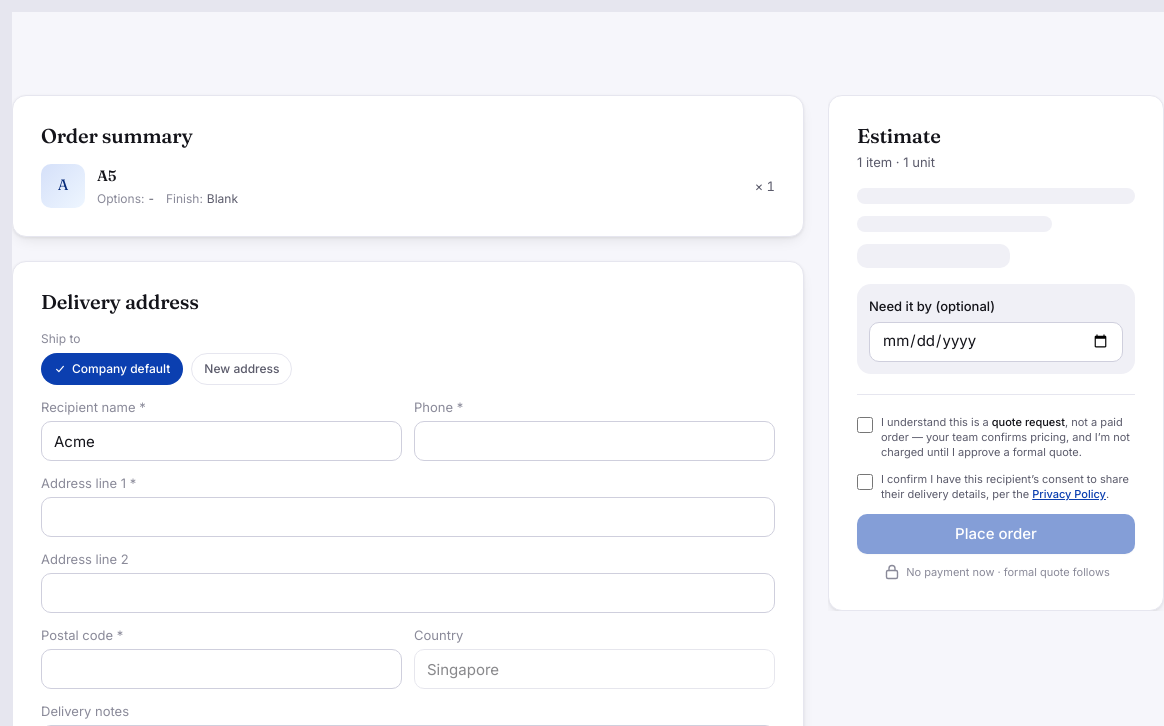
Test case: keeps Place order disabled until both acknowledgements are ticked
This screenshot has width=1164, height=726.
Check: the button "Place order" is disabled, box [857, 514, 1135, 554]
Click the checkbox labelled "quote request". click: click(865, 424)
box: [857, 416, 873, 432]
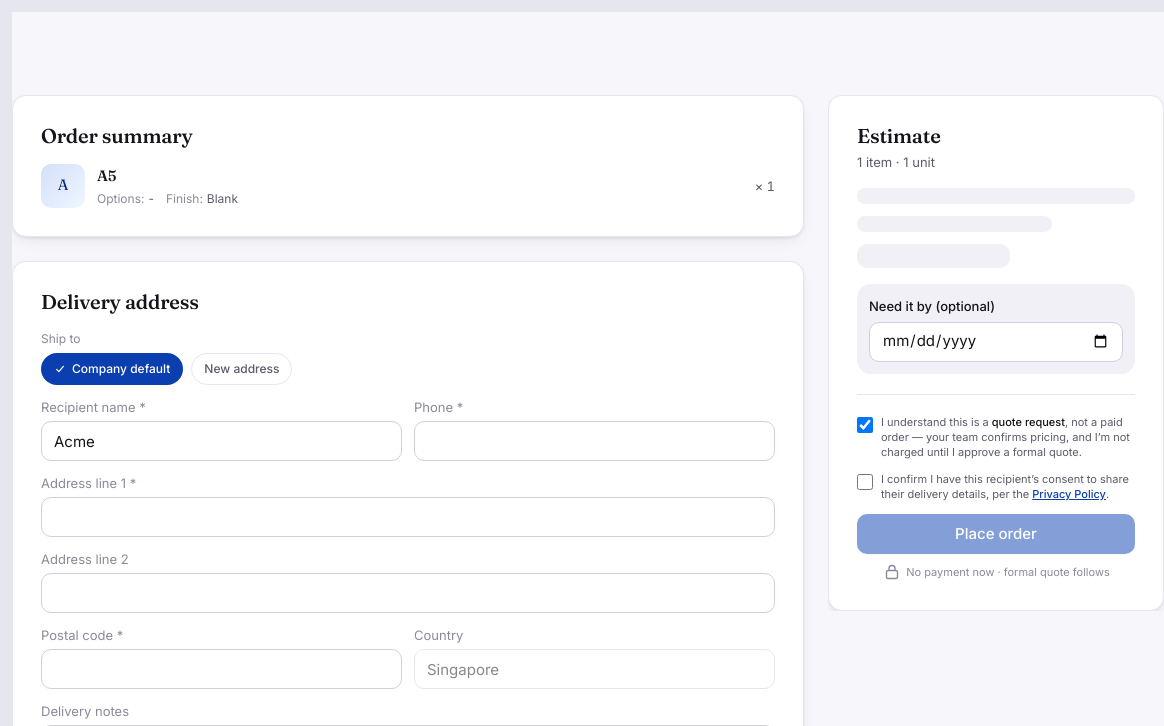
Check: the button "Place order" is disabled, box [857, 514, 1135, 554]
Click the checkbox labelled "recipient". click: click(865, 482)
box: [857, 474, 873, 490]
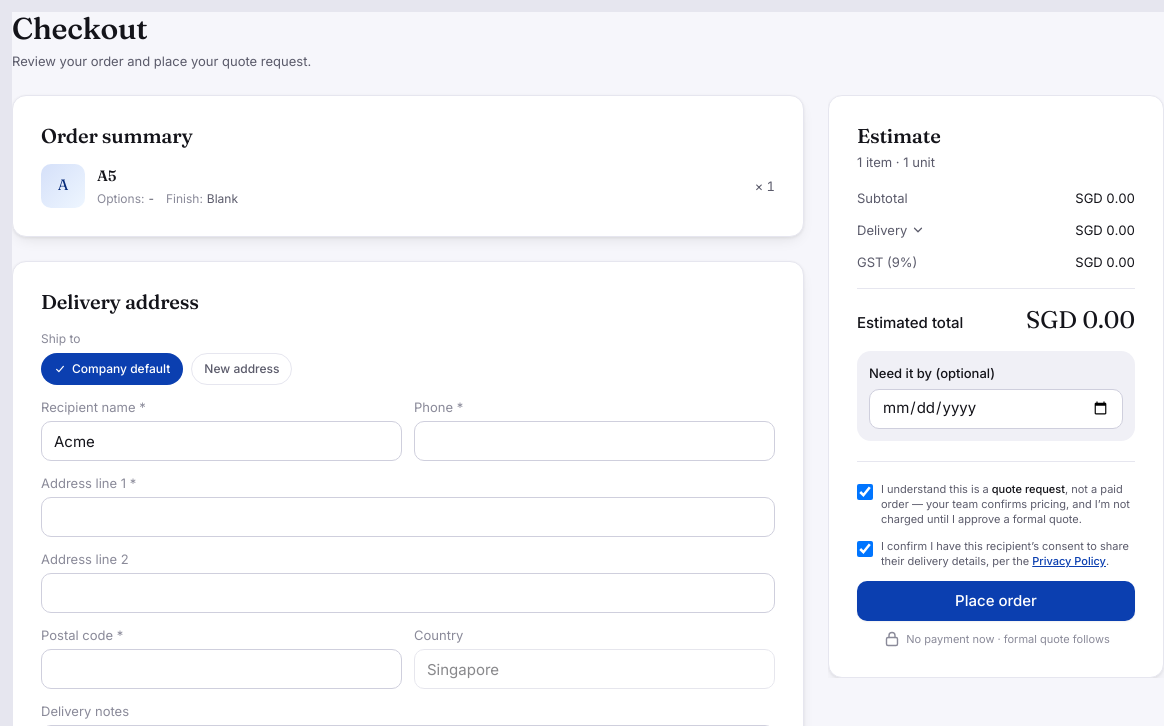
Check: the button "Place order" is enabled, box [857, 581, 1135, 621]
